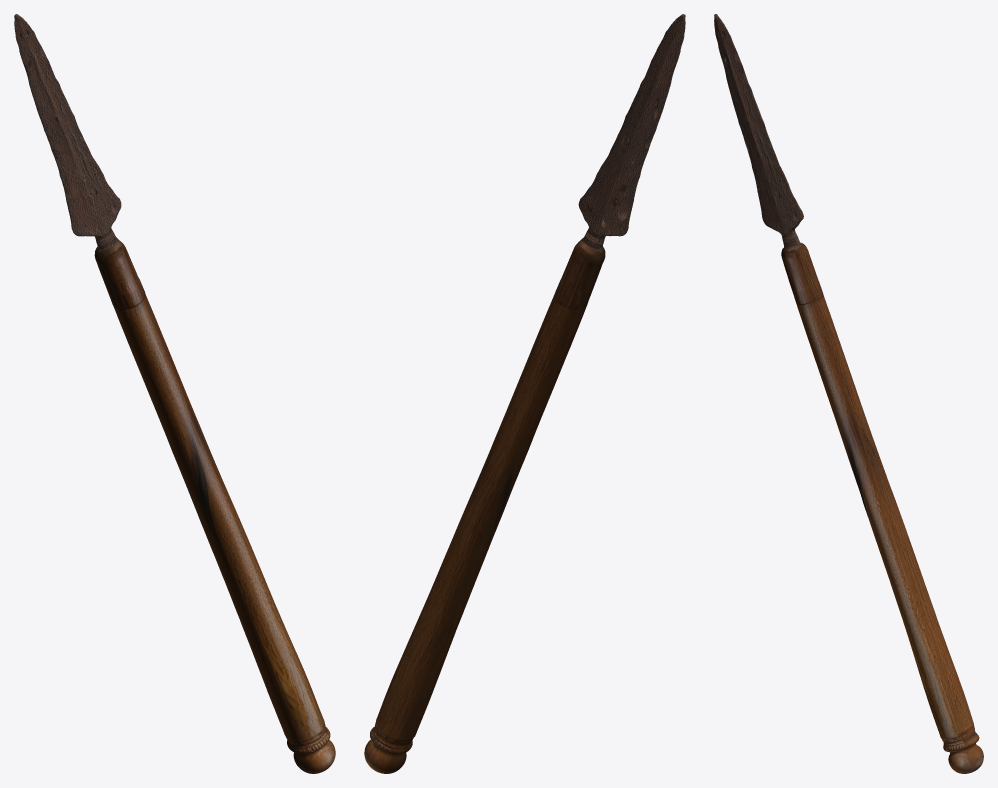
Rendered from tombak-2-fixed.glb.
The picture shows the model from 3 angles, left to right: view 1: azimuth 30°, elevation 25°; view 2: azimuth 150°, elevation 25°; view 3: azimuth 330°, elevation 25°; orthographic projection. The views are drawn at different scales.
Parts seen in each view (by area): view 1: node_0.002; view 2: node_0.002; view 3: node_0.002.
Part boxes in pixels (x1,y1,x2,y2): node_0.002: (14, 14, 335, 773); node_0.002: (364, 14, 685, 773); node_0.002: (714, 14, 983, 773).
Bounding box in the file's own units: 0.2844 × 0.7087 × 0.0339.
2 materials, 2 textured.
